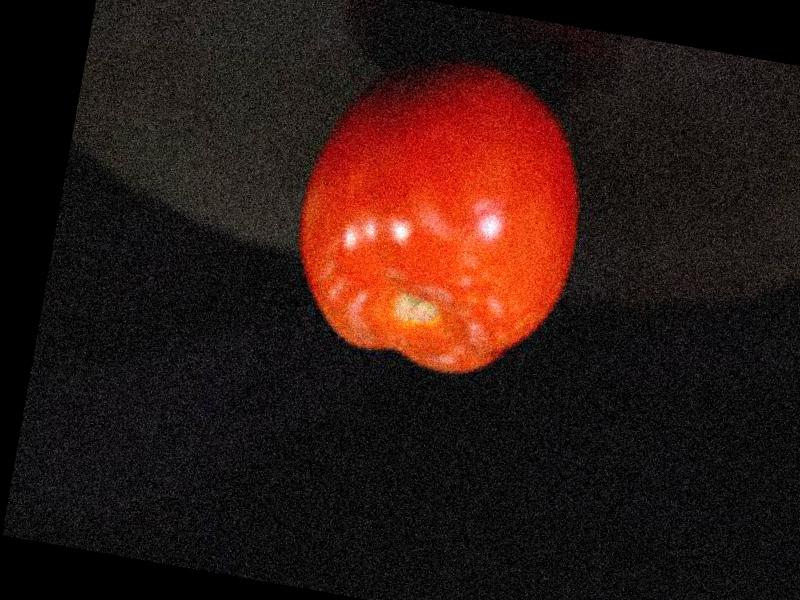Tomato: (279, 45, 605, 392)
